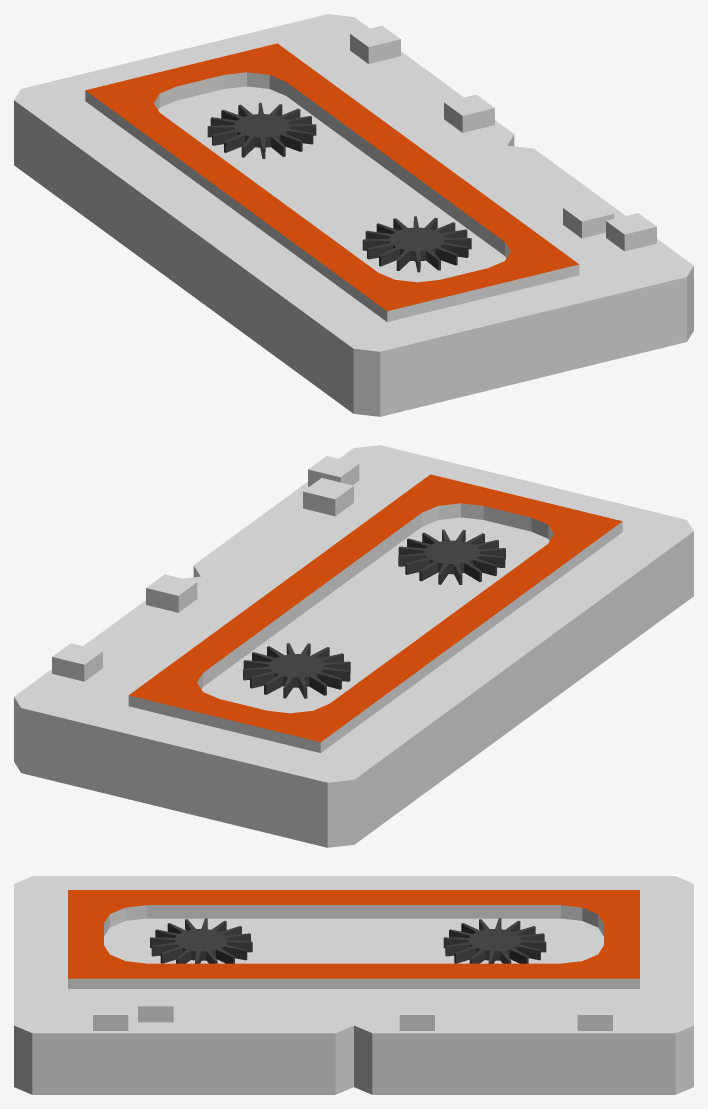
The model's file is cassette.fbx.
3 views of the same model, one above another, from view 1: azimuth 30°, elevation 25°; view 2: azimuth 150°, elevation 25°; view 3: azimuth 270°, elevation 25° (orthographic). The views are drawn at different scales.
Visible parts, largest first — view 1: cassette; view 2: cassette; view 3: cassette.
Part boxes in pixels (box(x1,y1,x2,y2)): cassette: box(14, 14, 693, 416); cassette: box(14, 445, 693, 847); cassette: box(14, 876, 693, 1094).
Size of the model in its own units: 94.87 by 23.68 by 173.
